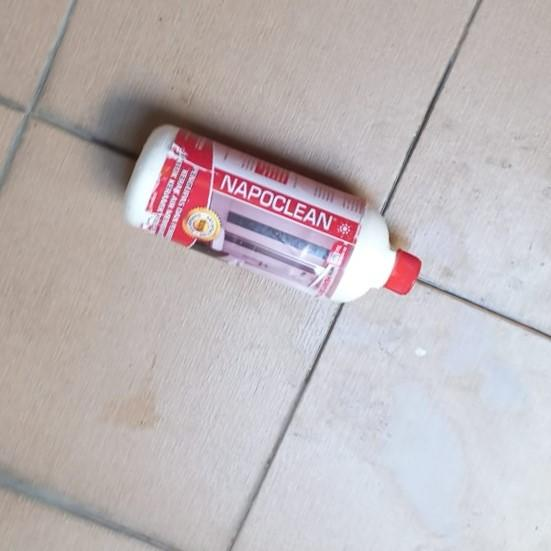Plastik: (122, 125, 423, 303)
